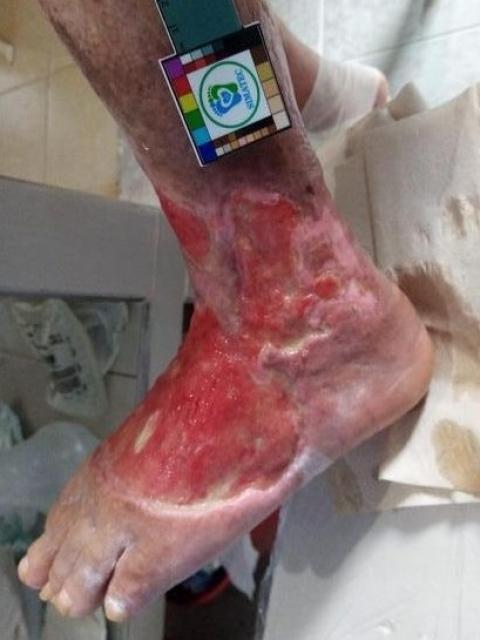wound: (96, 193, 342, 513), (156, 189, 216, 268)
